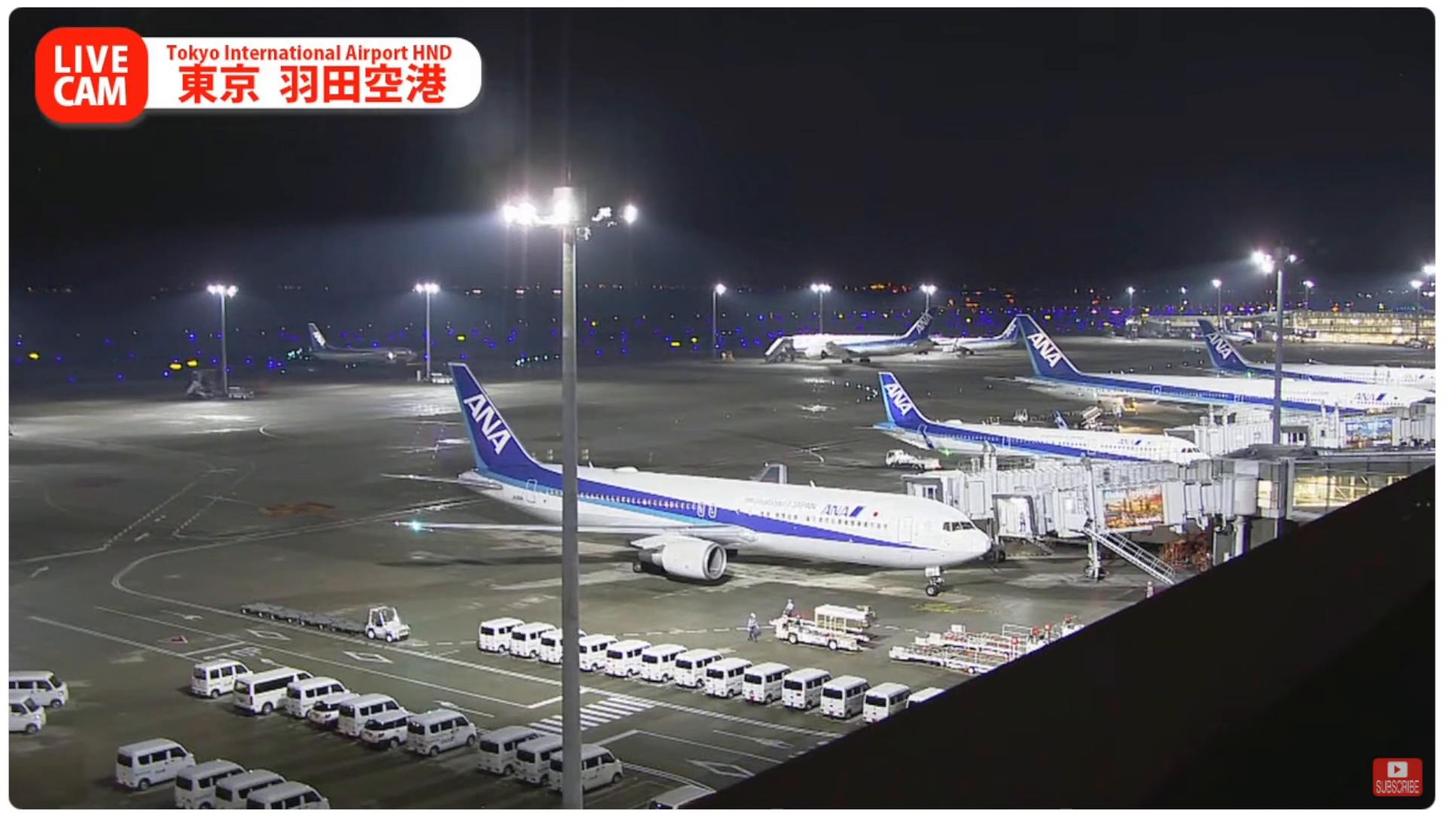Aerobridge: (902, 461, 1219, 516), (992, 475, 1249, 541)
Airplane: (384, 360, 990, 589)
Dolly: (242, 594, 368, 640)
JCPL: (892, 631, 1025, 674), (936, 622, 1081, 655)
Skyloader: (776, 601, 874, 655)
Tractor: (362, 599, 414, 650)
Window: (1293, 468, 1419, 517)
